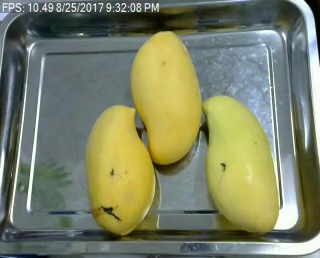Mango: (201, 95, 280, 234), (84, 103, 157, 237), (129, 31, 202, 164)
